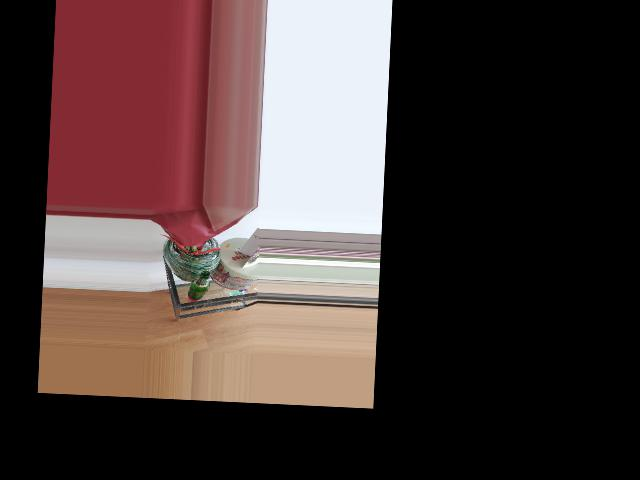beer: (186, 270, 210, 300)
